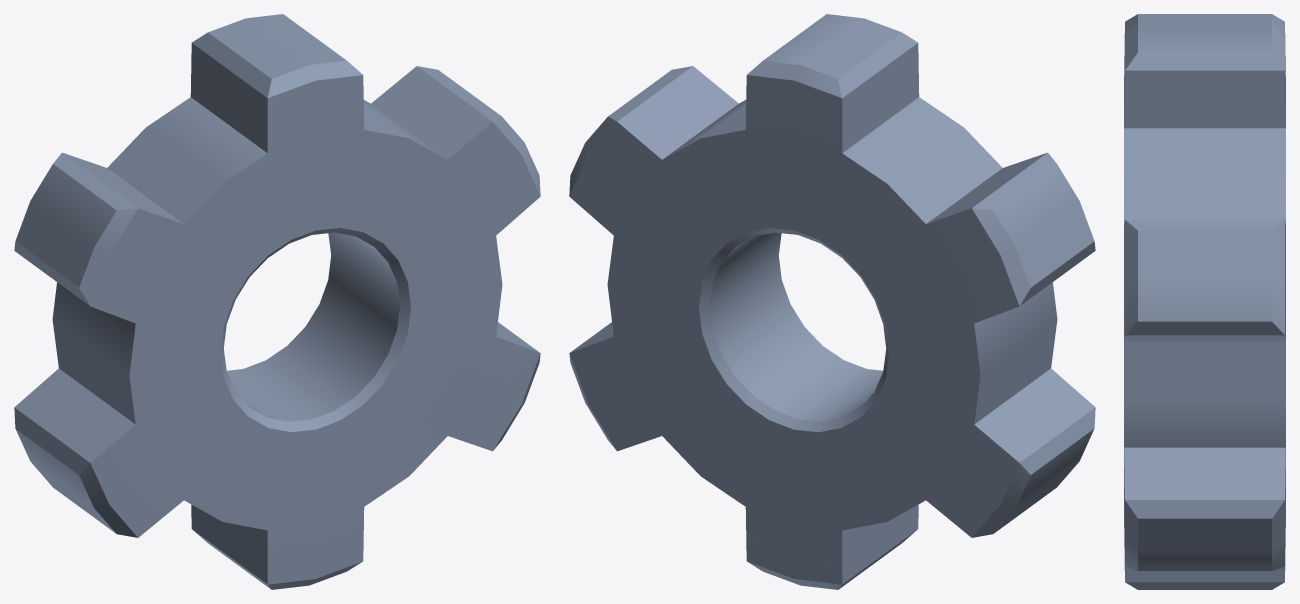
File: gear.glb
3 views of the same model, side by side, from view 1: azimuth 30°, elevation 25°; view 2: azimuth 150°, elevation 25°; view 3: azimuth 270°, elevation 25° (orthographic). The views are drawn at different scales.
Parts seen in each view (by area): view 1: Object_2; view 2: Object_2; view 3: Object_2.
Boxes of the visible parts, x1,y1,x2,y2 form: Object_2: [14, 14, 540, 589]; Object_2: [569, 14, 1095, 589]; Object_2: [1124, 14, 1285, 589].
Bounding box in the file's own units: 2.58 × 2.79 × 0.7456.
